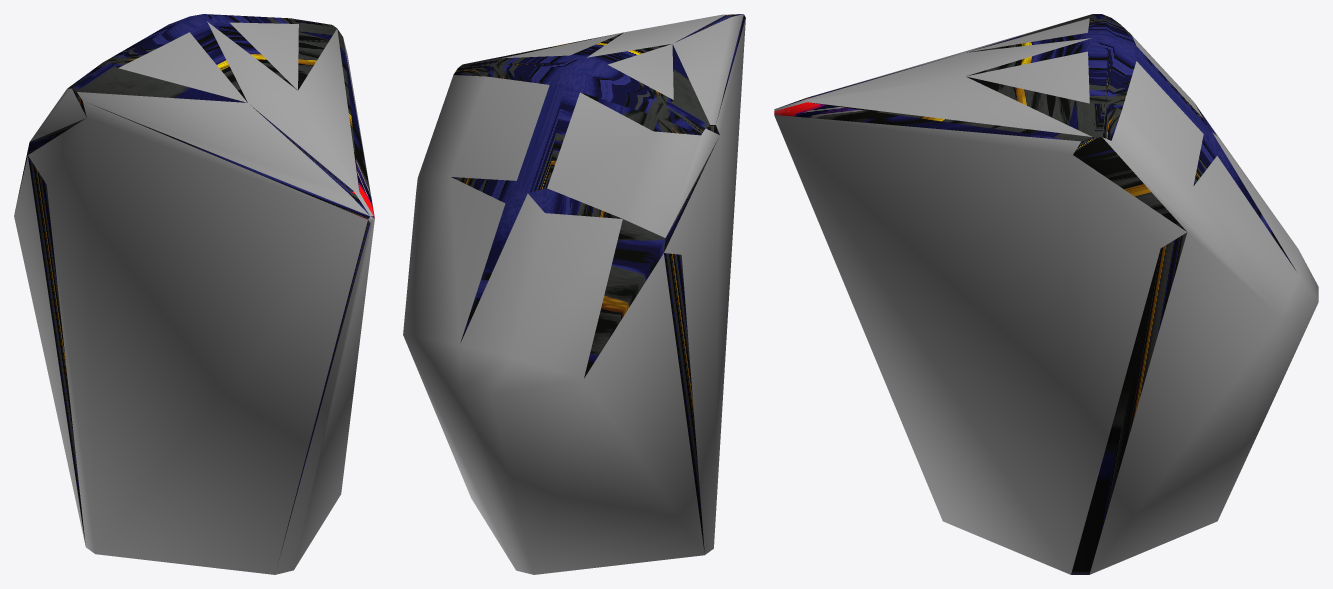
File: npc_hopper_collider.obj
The picture shows the model from 3 angles, left to right: view 1: azimuth 30°, elevation 25°; view 2: azimuth 150°, elevation 25°; view 3: azimuth 270°, elevation 25°; orthographic projection. The views are drawn at different scales.
Parts seen in each view (by area): view 1: npc_hopper_npc_hopper_mesh.001; view 2: npc_hopper_npc_hopper_mesh.001; view 3: npc_hopper_npc_hopper_mesh.001.
Boxes of the visible parts, x1,y1,x2,y2 form: npc_hopper_npc_hopper_mesh.001: (14, 14, 374, 574); npc_hopper_npc_hopper_mesh.001: (403, 14, 745, 574); npc_hopper_npc_hopper_mesh.001: (774, 14, 1318, 574).
Size of the model in its own units: 1.34 by 2.44 by 2.51.
